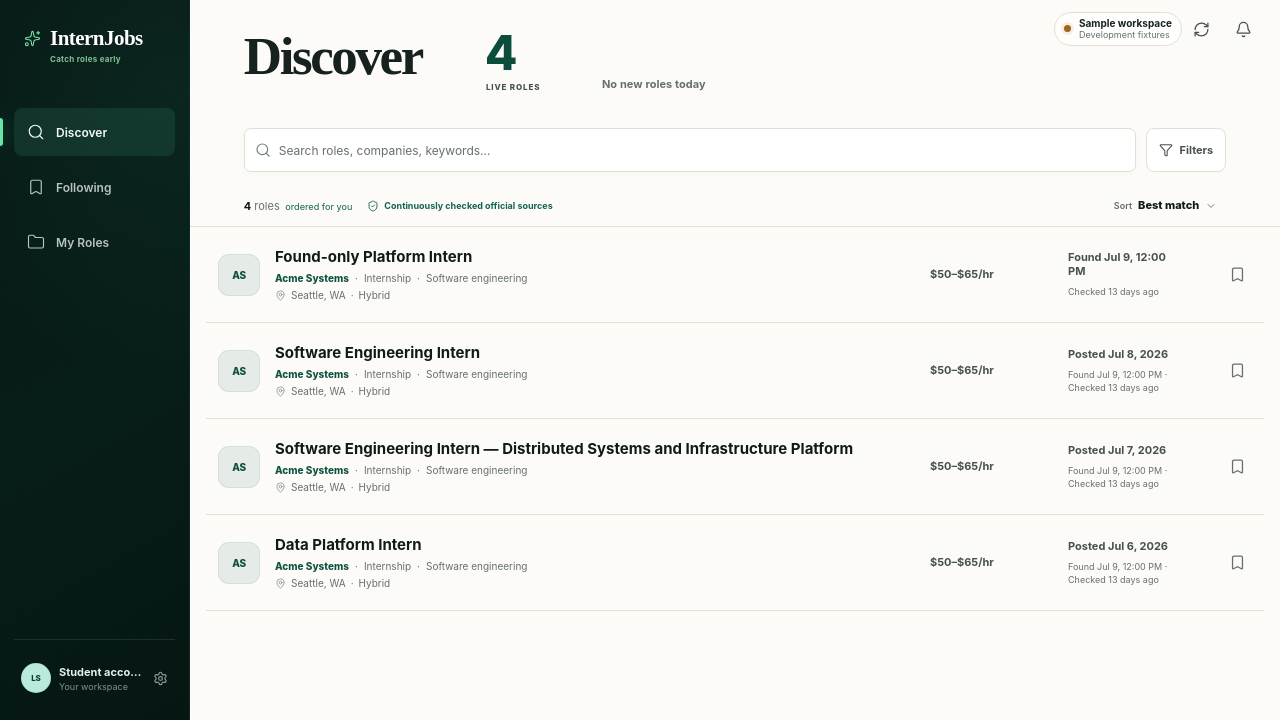
Scenario: student workspace › searches student eligibility details already present on the official role
Type "Graduating 2027" into the field labelled "Search roles".
click(702, 150); type("Graduating 2027")  # box [279,131,1125,169]
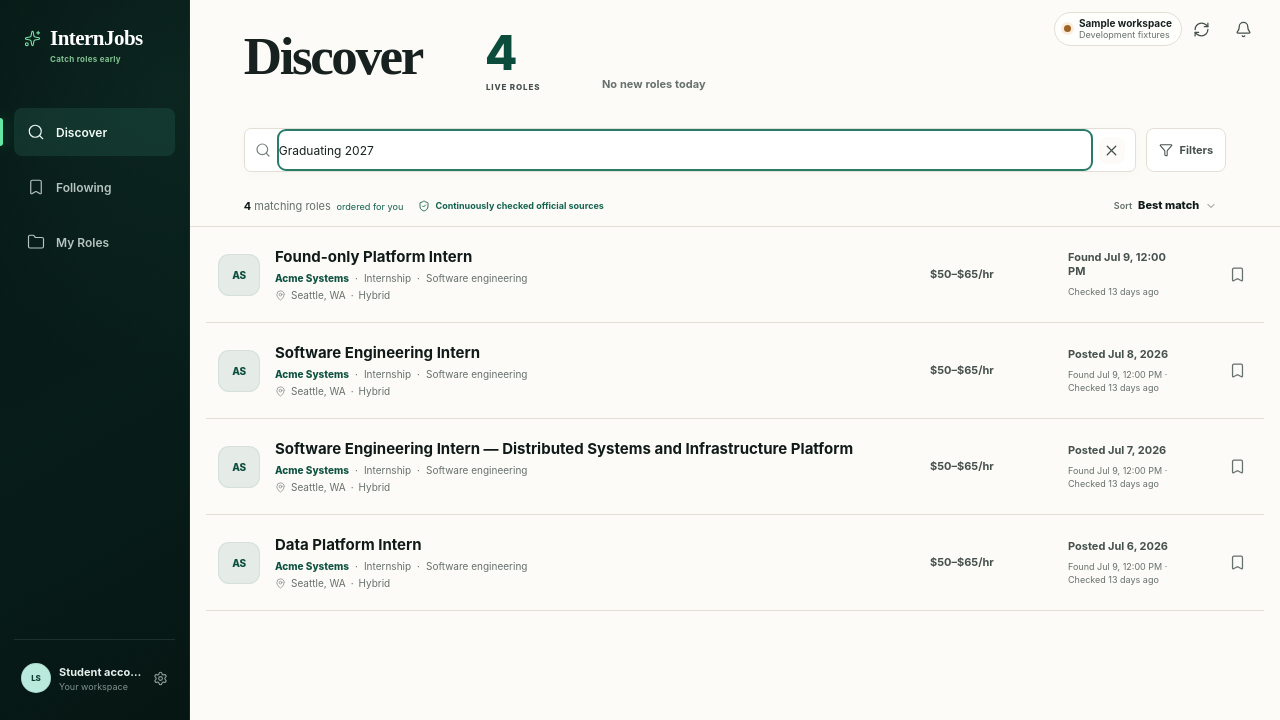
Expected: the button "Software Engineering Intern" is shown, [275,344,480,362]
Now the text "matching roles" shows "4 matching roles", box [244,198,404,212]
